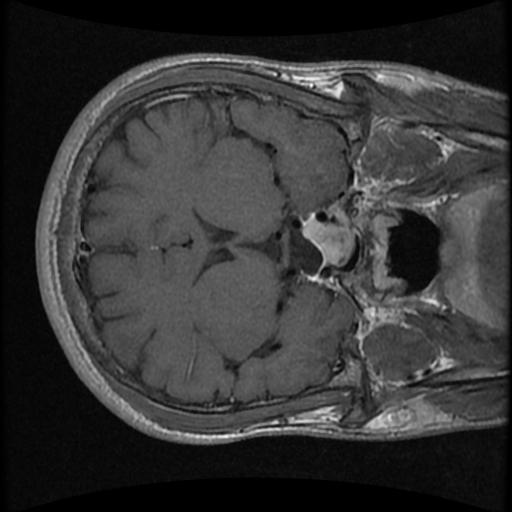pituitary tumour: (302, 210, 350, 264)
